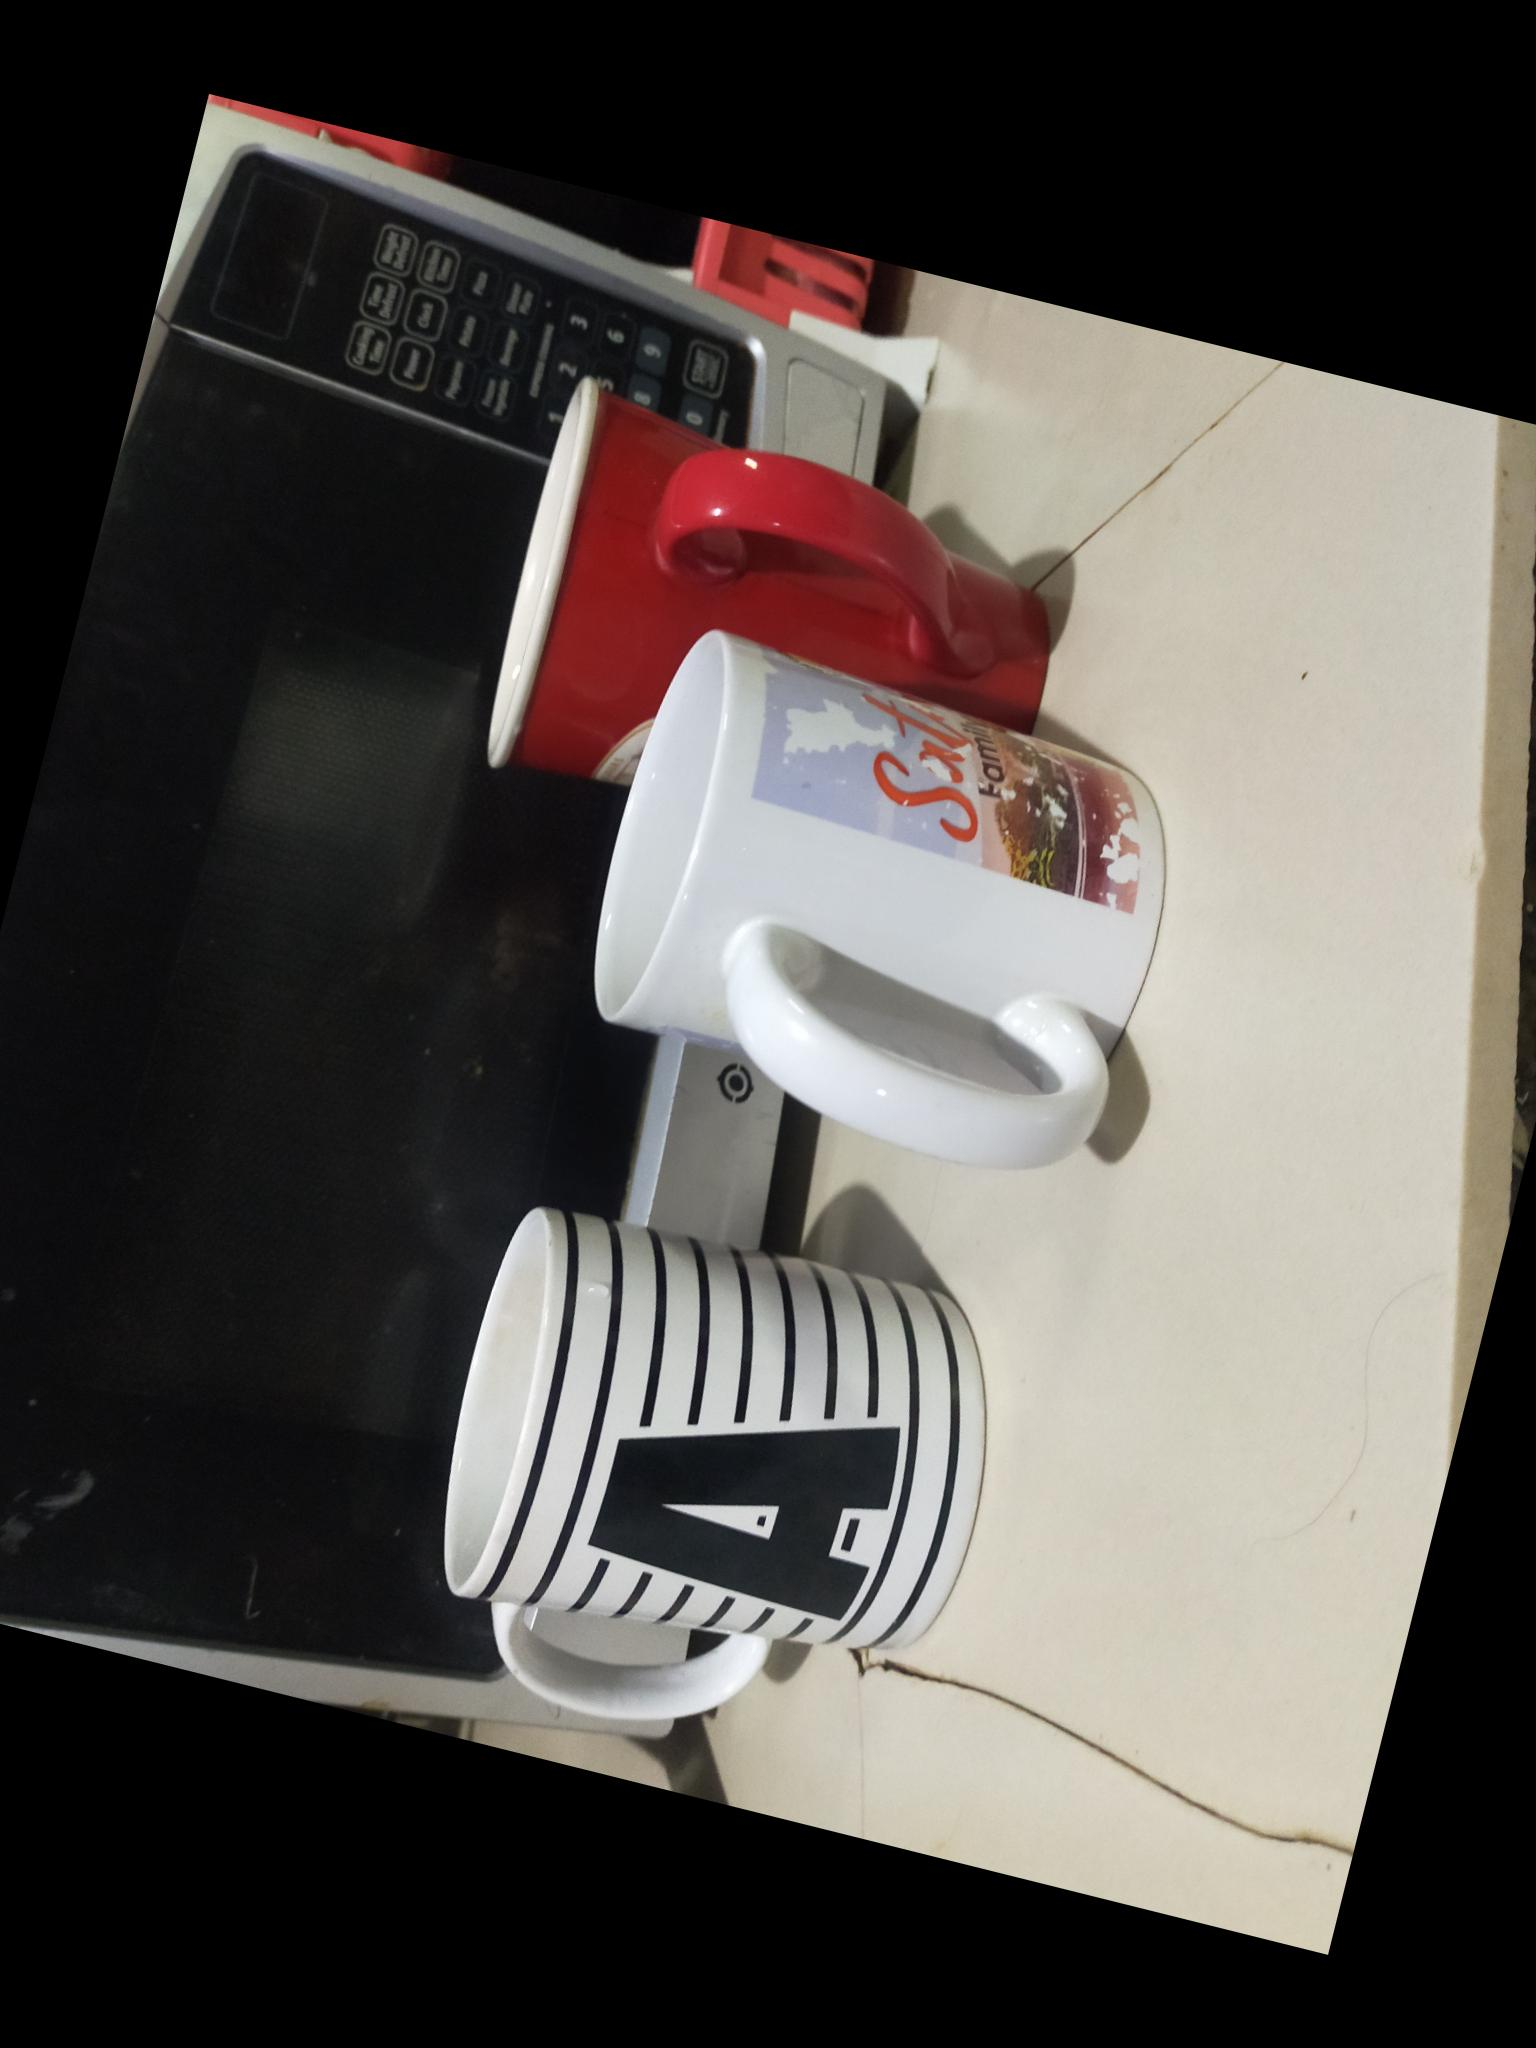Coffee Mug: (395, 1185, 1023, 1784), (561, 626, 1200, 1185), (476, 376, 1092, 889)
